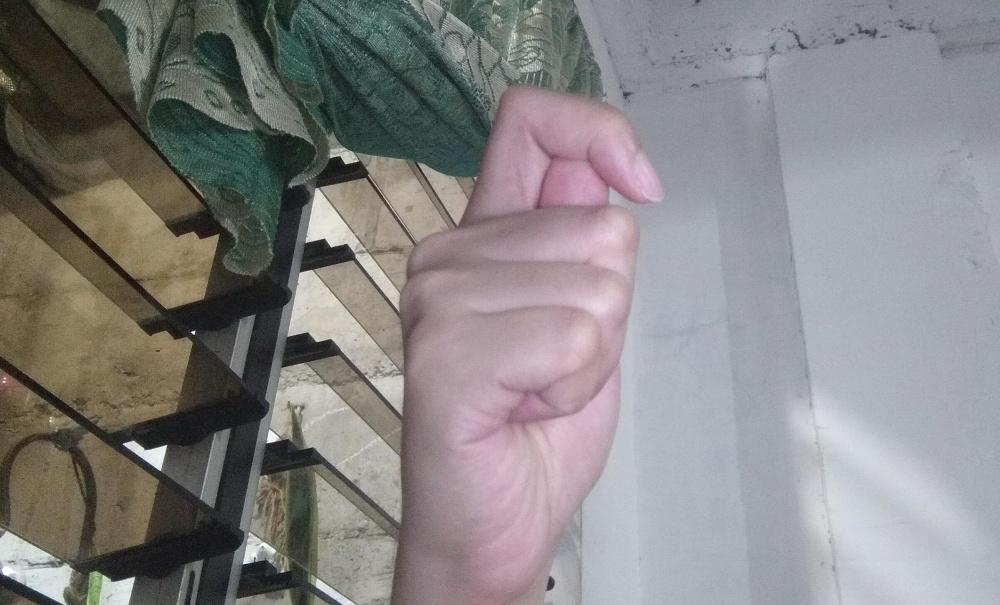t: (396, 82, 666, 587)
